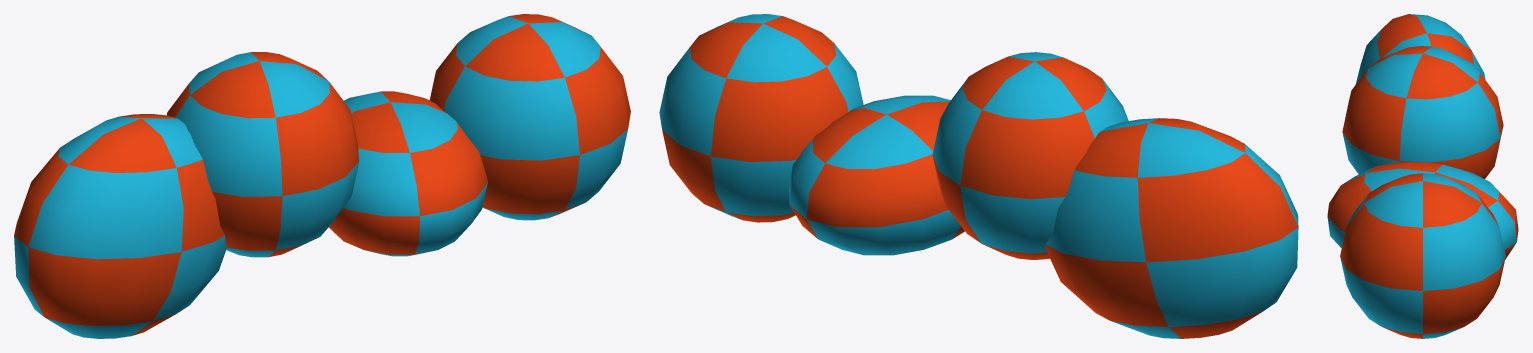
Rendered from scene_harness.obj.
The picture shows the model from 3 angles, left to right: view 1: azimuth 30°, elevation 25°; view 2: azimuth 150°, elevation 25°; view 3: azimuth 270°, elevation 25°; orthographic projection. The views are drawn at different scales.
Visible parts, largest first — view 1: StaticChild, IndependentRootMesh, ActorMesh, StaticChild.001; view 2: StaticChild, IndependentRootMesh, ActorMesh, StaticChild.001; view 3: IndependentRootMesh, ActorMesh, StaticChild.001, StaticChild.
Boxes of the visible parts, x1,y1,x2,y2 form: StaticChild: (14,114,226,338); IndependentRootMesh: (429,14,630,220); ActorMesh: (167,52,359,257); StaticChild.001: (329,91,487,256); StaticChild: (1045,118,1298,338); IndependentRootMesh: (659,14,863,222); ActorMesh: (932,52,1128,259); StaticChild.001: (789,95,964,255); IndependentRootMesh: (1340,173,1505,338); ActorMesh: (1342,46,1503,178); StaticChild.001: (1327,162,1518,259); StaticChild: (1355,14,1485,84).
Size of the model in its own units: 6.75 by 2.5 by 2.3.
Materials: 1 (1 with a texture image).
